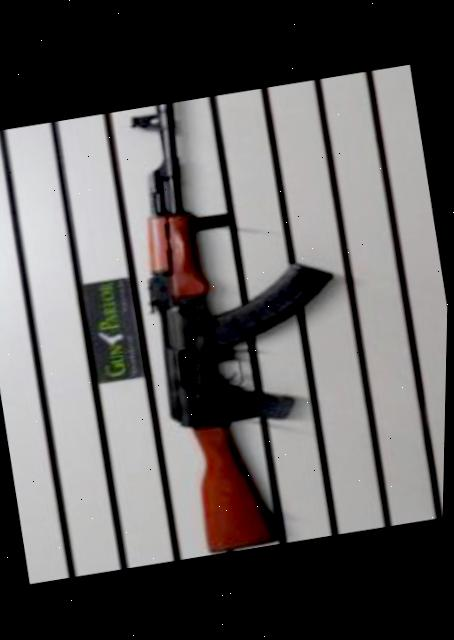rifle: (113, 77, 383, 559)
